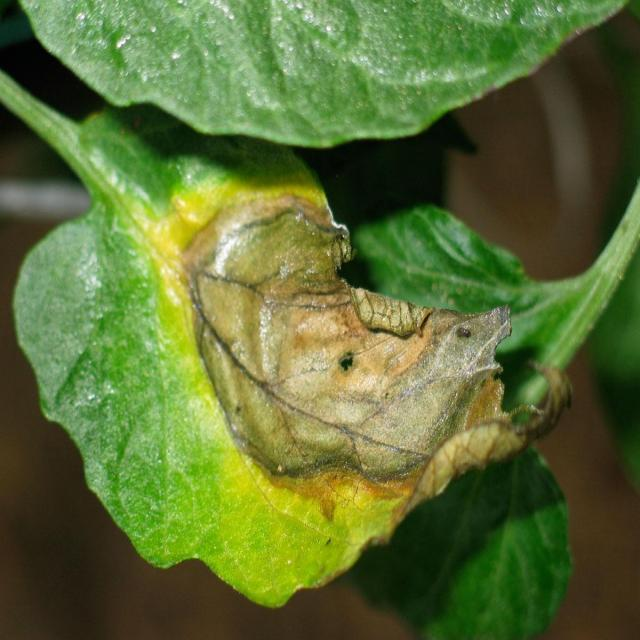Late Blight: (12, 107, 571, 608)
